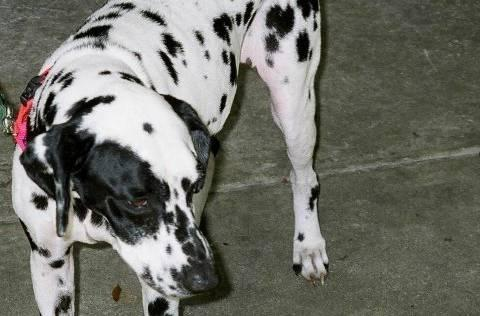dog: (0, 0, 257, 315)
